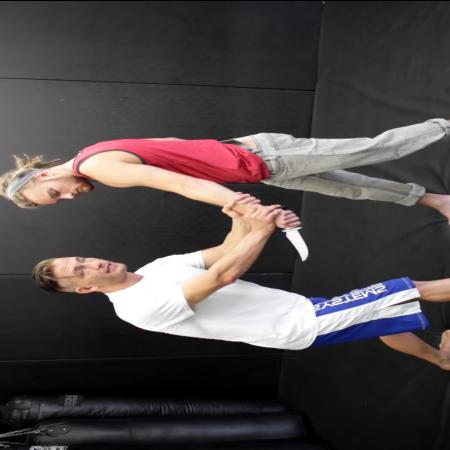long weapon: (280, 204, 316, 264)
